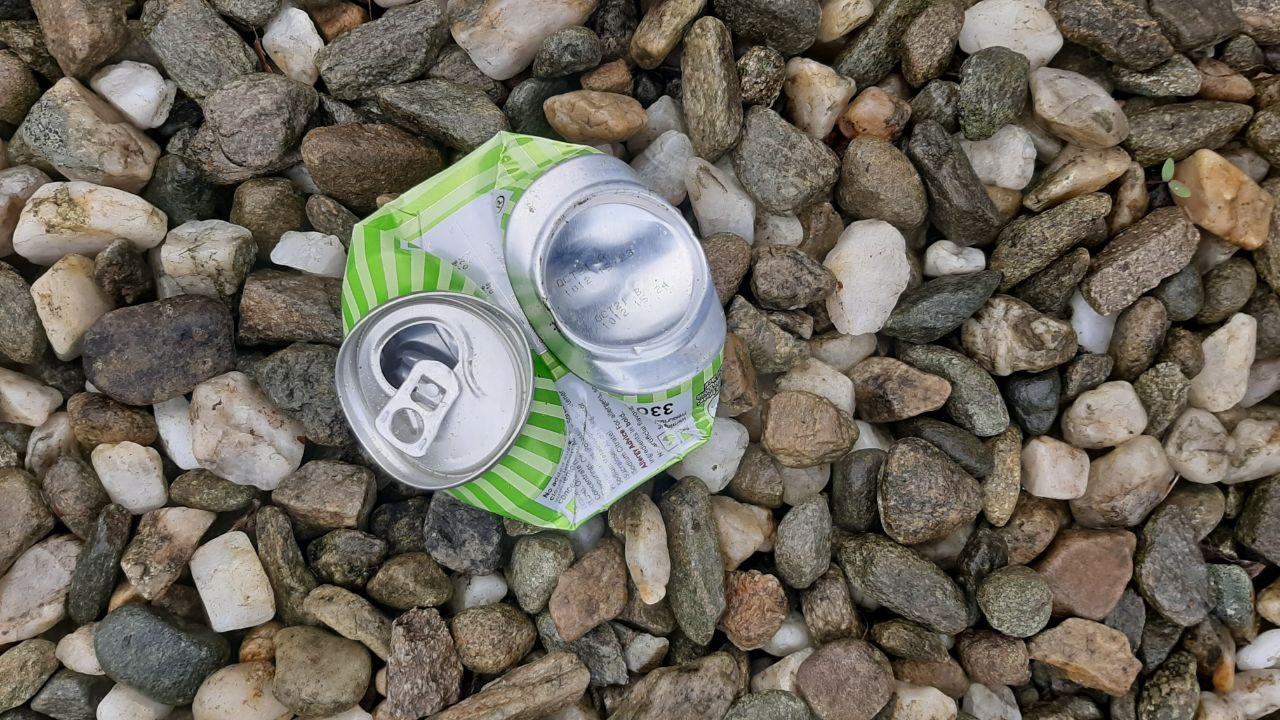Can: (337, 129, 722, 532)
